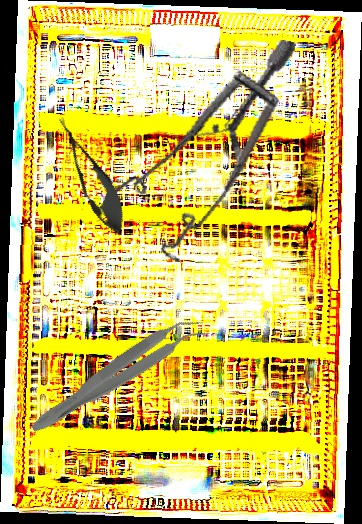Micro Scissor: (45, 109, 138, 243)
Speculum: (92, 11, 297, 277)
Tissue Forceps: (25, 305, 211, 447)
